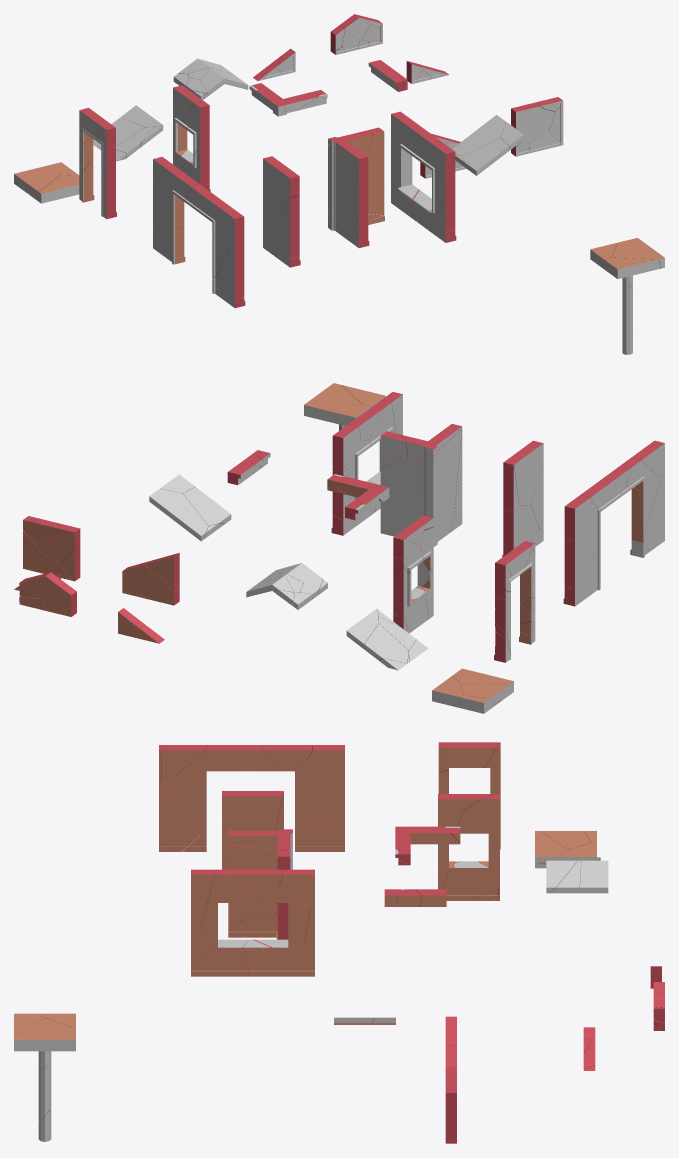
File: Wooden_Destructibles.fbx
The picture shows the model from 3 angles, top to bottom: view 1: azimuth 30°, elevation 25°; view 2: azimuth 150°, elevation 25°; view 3: azimuth 270°, elevation 25°; orthographic projection. The views are drawn at different scales.
Parts seen in each view (by area): view 1: Wooden_floor_1x0.2x1_proxy.007_cell.004, Wooden_floor_1x0.2x1_proxy.022_cell.002, Wooden_floor_1x0.2x1_proxy.008_cell.004, Wooden_floor_1x0.2x1_proxy.008_cell.011, Wooden_floor_1x0.2x1_proxy.009_cell.006, Wooden_floor_1x0.2x1_proxy.007_cell.002, Wooden_floor_1x0.2x1_proxy.007_cell.003, Wooden_floor_1x0.2x1_proxy.005_cell.003, Wooden_floor_1x0.2x1_proxy.022_cell.005, Wooden_floor_1x0.2x1_proxy.008_cell.002, Wooden_floor_1x0.2x1_proxy.014_cell, Wooden_floor_1x0.2x1_proxy.014_cell.002 (+23 smaller); view 2: Wooden_floor_1x0.2x1_proxy.007_cell.004, Wooden_floor_1x0.2x1_proxy.007_cell.003, Wooden_floor_1x0.2x1_proxy.008_cell.011, Wooden_floor_1x0.2x1_proxy.022_cell.002, Wooden_floor_1x0.2x1_proxy.014_cell, Wooden_floor_1x0.2x1_proxy.022_cell.001, Wooden_floor_1x0.2x1_proxy.002_cell.007, Wooden_floor_1x0.2x1_proxy.008_cell.012, Wooden_floor_1x0.2x1_proxy.017_cell.005, Wooden_floor_1x0.2x1_proxy.007_cell.006, Wooden_floor_1x0.2x1_proxy.008_cell.002, Wooden_floor_1x0.2x1_proxy.008_cell.004 (+35 smaller); view 3: Wooden_floor_1x0.2x1_proxy.008_cell.011, Wooden_floor_1x0.2x1_proxy.022_cell.002, Wooden_floor_1x0.2x1_proxy.005_cell.004, Wooden_floor_1x0.2x1_proxy.005_cell.003, Wooden_floor_1x0.2x1_proxy.008_cell.012, Wooden_floor_1x0.2x1_proxy.007_cell.004, Wooden_floor_1x0.2x1_proxy.012_cell.006, Wooden_floor_1x0.2x1_proxy.002_cell.007, Wooden_floor_1x0.2x1_proxy.008_cell.004, Wooden_floor_1x0.2x1_proxy.008_cell.002, Wooden_floor_1x0.2x1_proxy.005_cell.006, Wooden_floor_1x0.2x1_proxy.013_cell.004 (+22 smaller).
Part boxes in pixels (box(x1,y1,x2,y2)): Wooden_floor_1x0.2x1_proxy.007_cell.004: box(328, 145, 366, 231); Wooden_floor_1x0.2x1_proxy.022_cell.002: box(263, 156, 299, 217); Wooden_floor_1x0.2x1_proxy.008_cell.004: box(212, 244, 244, 307); Wooden_floor_1x0.2x1_proxy.008_cell.011: box(153, 175, 184, 231); Wooden_floor_1x0.2x1_proxy.009_cell.006: box(511, 106, 554, 142); Wooden_floor_1x0.2x1_proxy.007_cell.002: box(351, 161, 368, 241); Wooden_floor_1x0.2x1_proxy.007_cell.003: box(364, 151, 384, 215); Wooden_floor_1x0.2x1_proxy.005_cell.003: box(413, 141, 444, 213); Wooden_floor_1x0.2x1_proxy.022_cell.005: box(279, 196, 299, 258); Wooden_floor_1x0.2x1_proxy.008_cell.002: box(153, 227, 185, 264); Wooden_floor_1x0.2x1_proxy.014_cell: box(452, 115, 505, 155); Wooden_floor_1x0.2x1_proxy.014_cell.002: box(462, 138, 509, 175); Wooden_floor_1x0.2x1_proxy.007_cell.004: box(416, 428, 461, 530); Wooden_floor_1x0.2x1_proxy.007_cell.003: box(380, 457, 427, 530); Wooden_floor_1x0.2x1_proxy.008_cell.011: box(564, 502, 601, 588); Wooden_floor_1x0.2x1_proxy.022_cell.002: box(504, 440, 543, 505); Wooden_floor_1x0.2x1_proxy.014_cell: box(149, 489, 207, 541); Wooden_floor_1x0.2x1_proxy.022_cell.001: box(502, 504, 538, 556); Wooden_floor_1x0.2x1_proxy.002_cell.007: box(304, 383, 362, 421); Wooden_floor_1x0.2x1_proxy.008_cell.012: box(631, 475, 661, 542); Wooden_floor_1x0.2x1_proxy.017_cell.005: box(360, 624, 408, 663); Wooden_floor_1x0.2x1_proxy.007_cell.006: box(399, 424, 462, 462); Wooden_floor_1x0.2x1_proxy.008_cell.002: box(563, 549, 600, 606); Wooden_floor_1x0.2x1_proxy.008_cell.004: box(642, 471, 664, 550); Wooden_floor_1x0.2x1_proxy.008_cell.011: box(294, 757, 344, 834); Wooden_floor_1x0.2x1_proxy.022_cell.002: box(222, 791, 282, 830); Wooden_floor_1x0.2x1_proxy.005_cell.004: box(244, 939, 314, 976); Wooden_floor_1x0.2x1_proxy.005_cell.003: box(201, 869, 256, 948); Wooden_floor_1x0.2x1_proxy.008_cell.012: box(159, 776, 206, 836); Wooden_floor_1x0.2x1_proxy.007_cell.004: box(228, 844, 292, 919); Wooden_floor_1x0.2x1_proxy.012_cell.006: box(444, 861, 499, 900); Wooden_floor_1x0.2x1_proxy.002_cell.007: box(14, 1018, 75, 1051); Wooden_floor_1x0.2x1_proxy.008_cell.004: box(159, 783, 199, 851); Wooden_floor_1x0.2x1_proxy.008_cell.002: box(295, 812, 344, 851); Wooden_floor_1x0.2x1_proxy.005_cell.006: box(191, 948, 249, 976); Wooden_floor_1x0.2x1_proxy.013_cell.004: box(444, 742, 497, 767).
Size of the model in its own units: 1019 by 364 by 1049.
